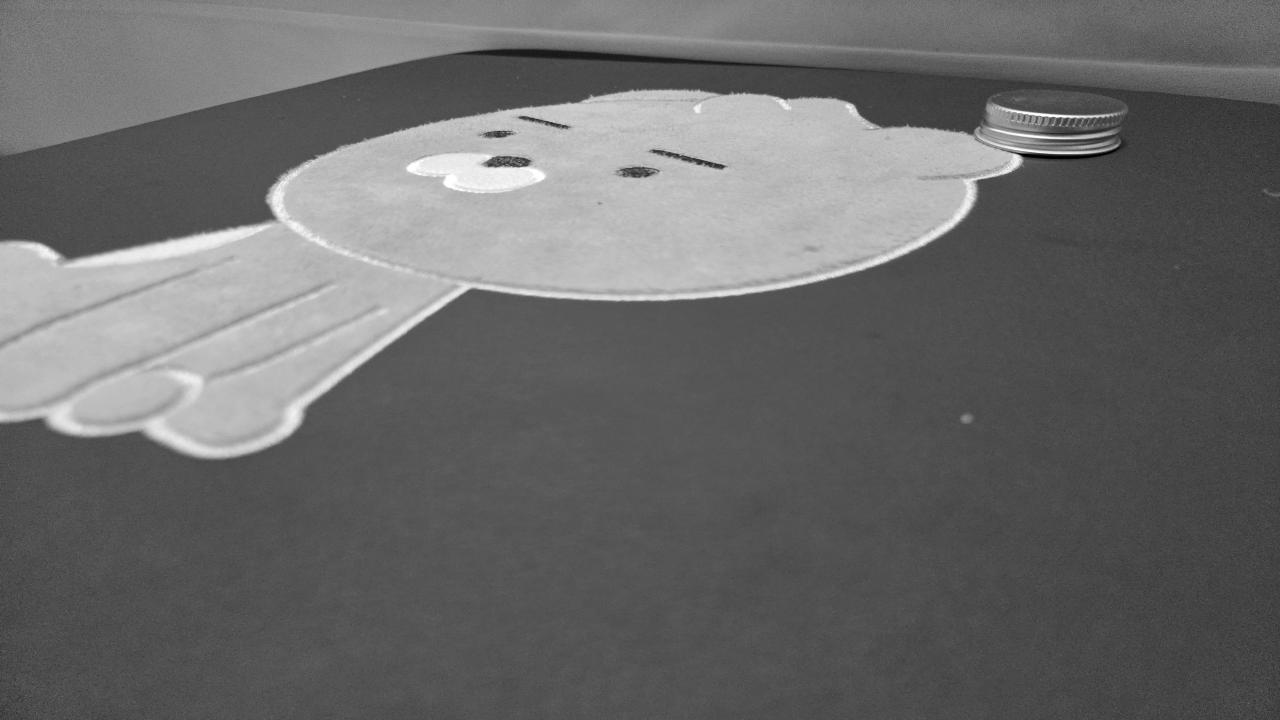bottle_cap: (976, 92, 1126, 153)
